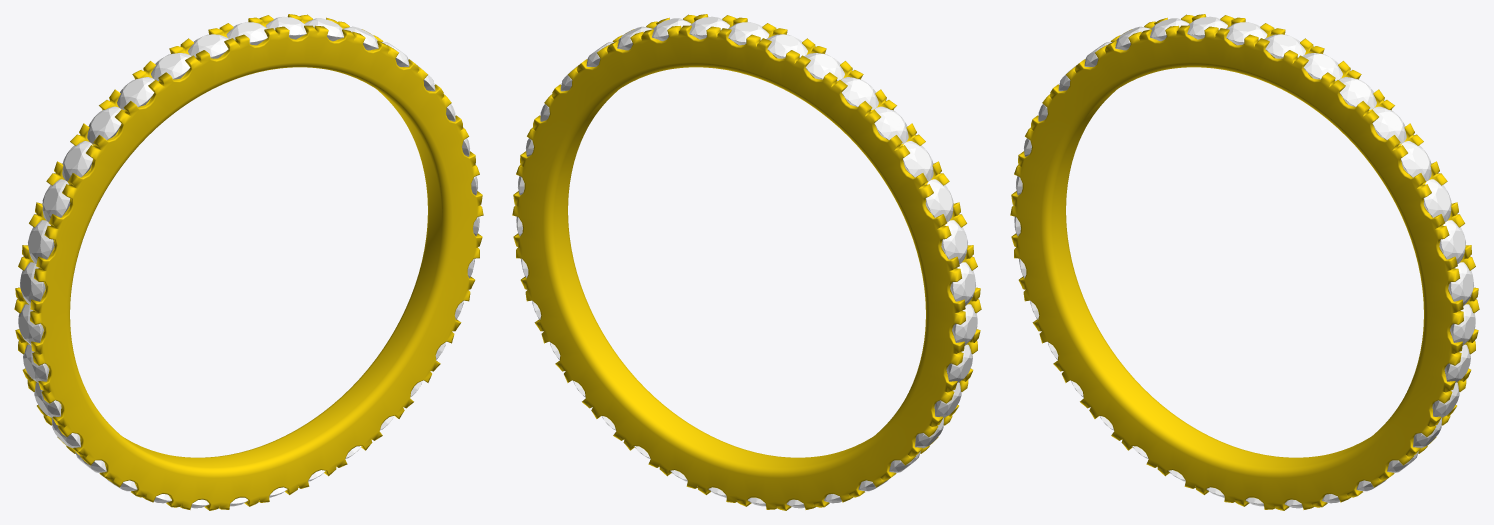
The model's file is ring1.glb.
3 renders of one model, left to right at view 1: azimuth 30°, elevation 25°; view 2: azimuth 150°, elevation 25°; view 3: azimuth 330°, elevation 25°, orthographic.
Parts seen in each view (by area): view 1: Ring_mesh, Diamond_mesh; view 2: Ring_mesh, Diamond_mesh; view 3: Ring_mesh, Diamond_mesh.
Boxes of the visible parts, x1=… form: Ring_mesh: x1=14, y1=14, x2=483, y2=510; Diamond_mesh: x1=18, y1=16, x2=479, y2=508; Ring_mesh: x1=512, y1=14, x2=981, y2=510; Diamond_mesh: x1=516, y1=16, x2=977, y2=508; Ring_mesh: x1=1010, y1=14, x2=1479, y2=510; Diamond_mesh: x1=1014, y1=16, x2=1475, y2=508.
Size of the model in its own units: 24.73 by 24.71 by 2.
